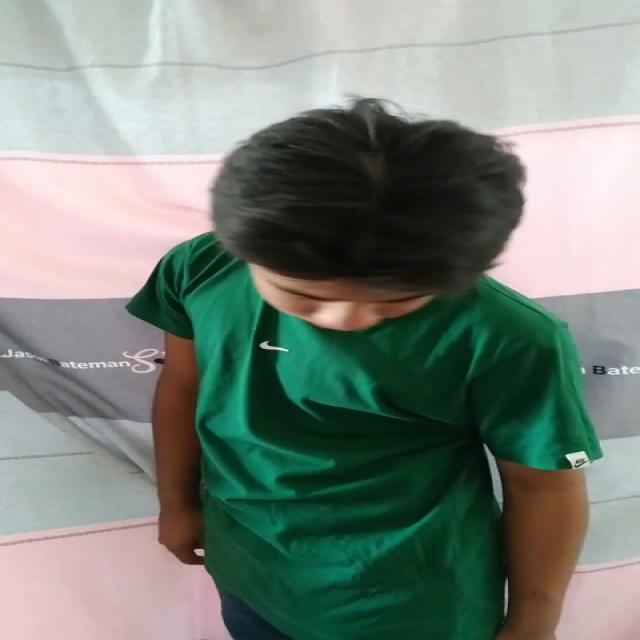9_cabeza_baja: (211, 96, 525, 334)
